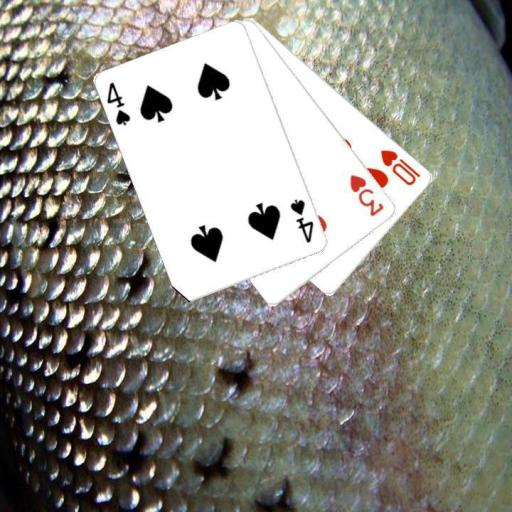card-corner: (346, 172, 386, 218), (377, 147, 422, 187), (287, 196, 316, 245), (104, 79, 132, 127)
